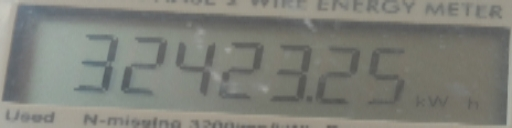2: (118, 32, 171, 97), (218, 39, 269, 104), (318, 44, 363, 108)
3: (73, 16, 118, 96), (265, 40, 313, 104)
4: (169, 34, 222, 104)
5: (358, 44, 414, 107)
d: (304, 93, 314, 103)
